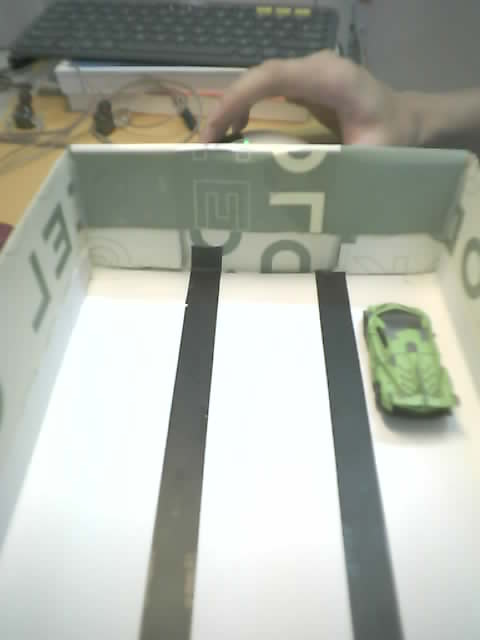vehicle: (362, 303, 460, 443)
